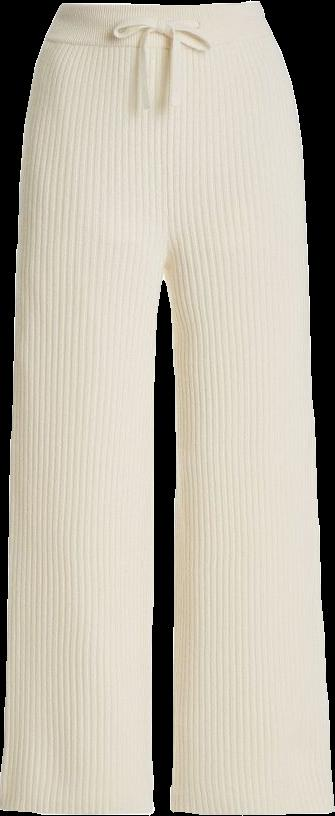Hemline: (0, 802, 159, 815), (169, 803, 334, 815)
Pantleg: (164, 2, 334, 813), (0, 4, 163, 813)
Waistline: (41, 31, 275, 51), (59, 0, 262, 13)
